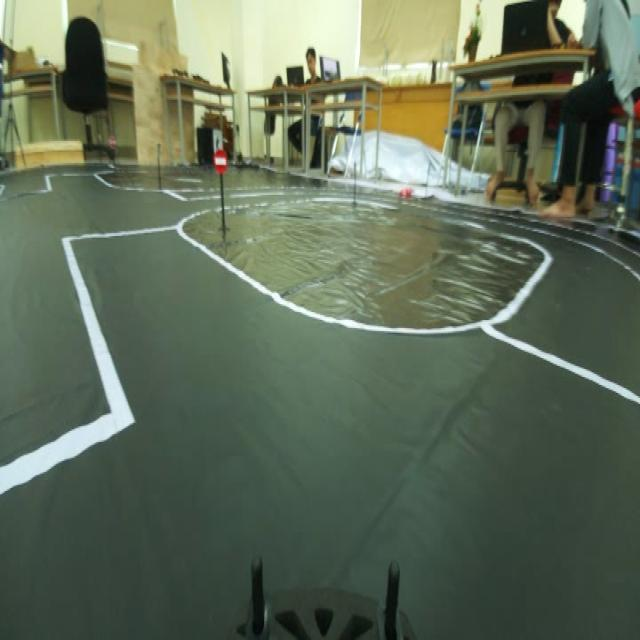no_entry: (208, 146, 235, 180)
